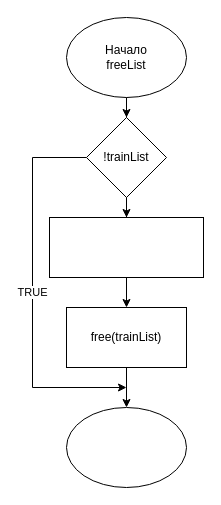
The diagram is 221 pixels wide and 505 high, and some of its shapes have lost their labels. Here are the shapes that lost their labels. From the top down, the centre of each, then its label:
At [126,247]: "freeList(trainList->next)".
At [126,447]: "Конец".
